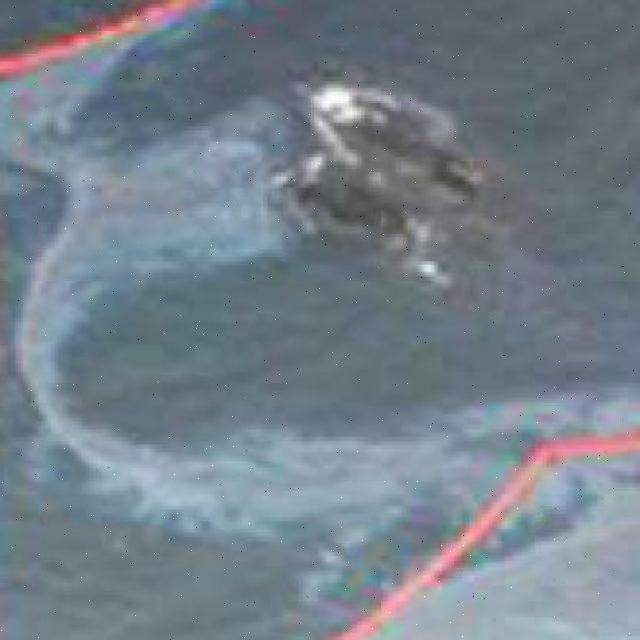sheen: (0, 0, 640, 585)
